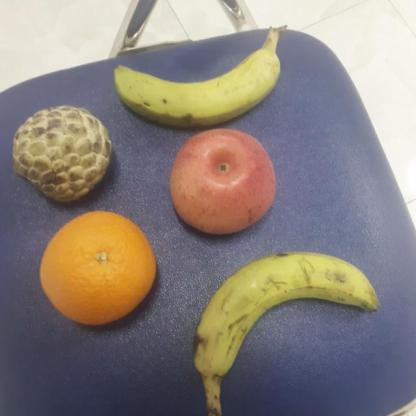annona: (13, 105, 114, 204)
apple: (170, 127, 276, 234)
banana: (191, 251, 380, 416), (113, 24, 290, 126)
orange: (39, 210, 157, 326)
